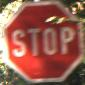Stop sign: (0, 0, 84, 84)
